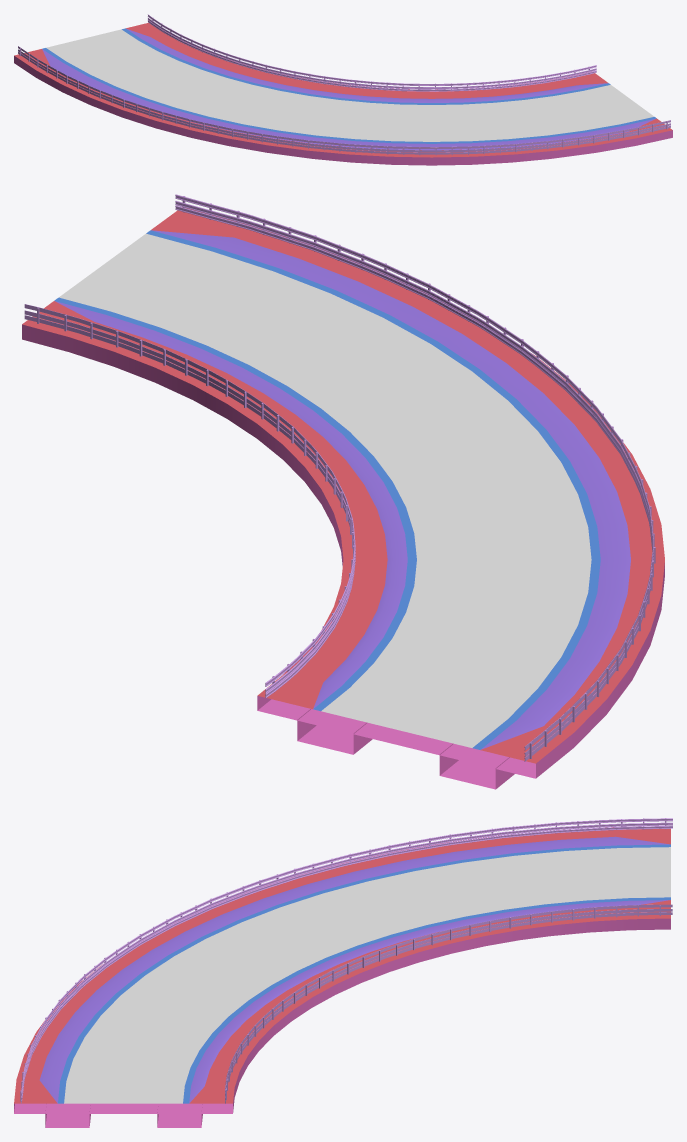
Rendered from RoadTurnBig.fbx.
3 renders of one model, top to bottom at view 1: azimuth 30°, elevation 25°; view 2: azimuth 150°, elevation 25°; view 3: azimuth 270°, elevation 25°, orthographic. The views are drawn at different scales.
Parts seen in each view (by area): view 1: RoadSmallTurnBig, RailingSmallTurnBig; view 2: RoadSmallTurnBig, RailingSmallTurnBig; view 3: RoadSmallTurnBig, RailingSmallTurnBig.
Part boxes in pixels (x1=…): RoadSmallTurnBig: x1=14, y1=23, x2=672, y2=165; RailingSmallTurnBig: x1=18, y1=14, x2=670, y2=155; RoadSmallTurnBig: x1=22, y1=207, x2=664, y2=789; RailingSmallTurnBig: x1=24, y1=194, x2=655, y2=761; RoadSmallTurnBig: x1=14, y1=827, x2=670, y2=1127; RailingSmallTurnBig: x1=20, y1=818, x2=672, y2=1103.
Bounding box in the file's own units: 6017 × 353 × 6017.
